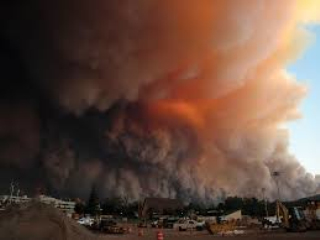smoke: (62, 72, 315, 209)
